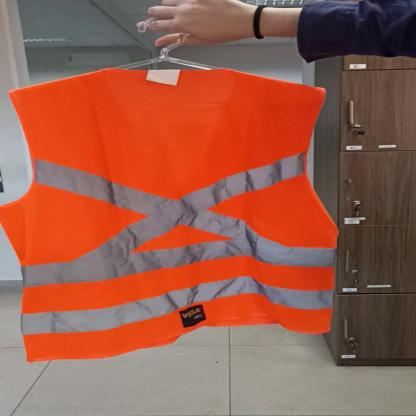colete: (2, 65, 347, 362)
